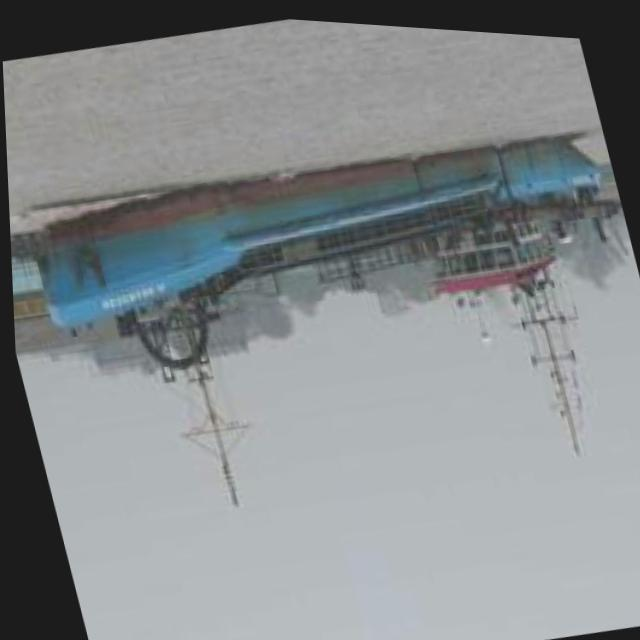ship2: (35, 127, 625, 503)
